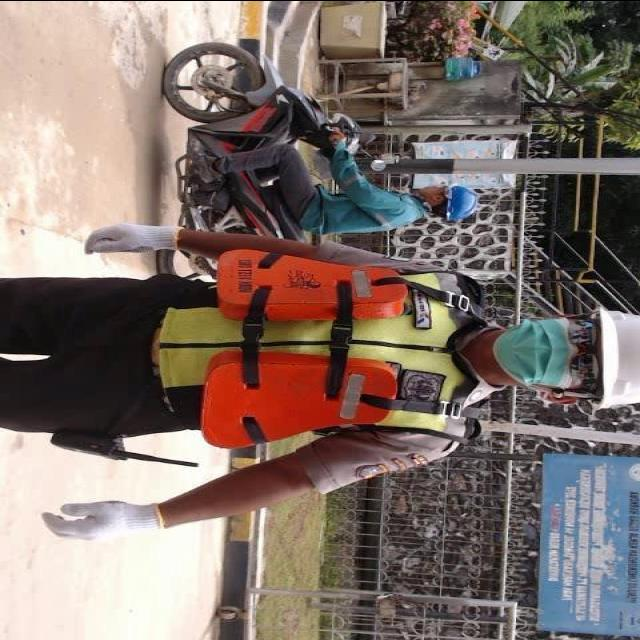helmet: (598, 281, 640, 430)
jacket: (154, 246, 498, 479)
